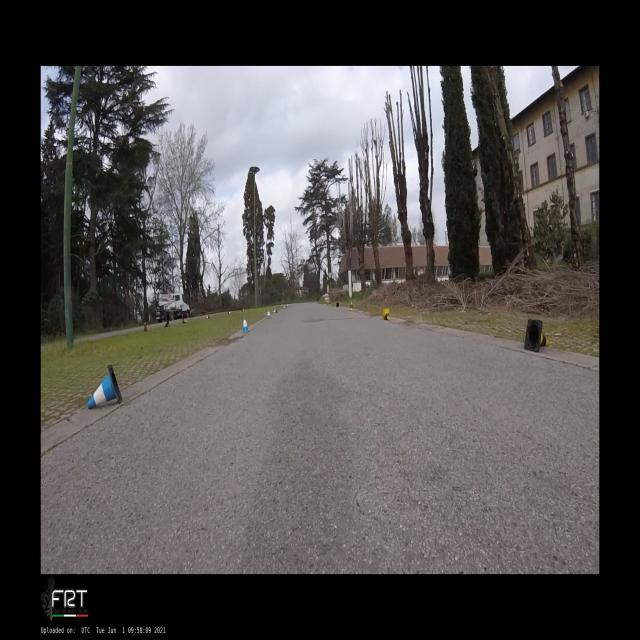blue_cone: (87, 365, 122, 409), (242, 316, 250, 333), (266, 309, 271, 319), (272, 308, 278, 313)
orange_cone: (206, 314, 210, 319), (228, 310, 231, 314)
unknown_cone: (164, 320, 170, 327), (182, 317, 188, 324), (143, 322, 147, 332), (336, 303, 339, 307)
yellow_cone: (524, 319, 549, 353), (382, 308, 390, 320), (349, 300, 354, 310), (328, 300, 331, 306)
